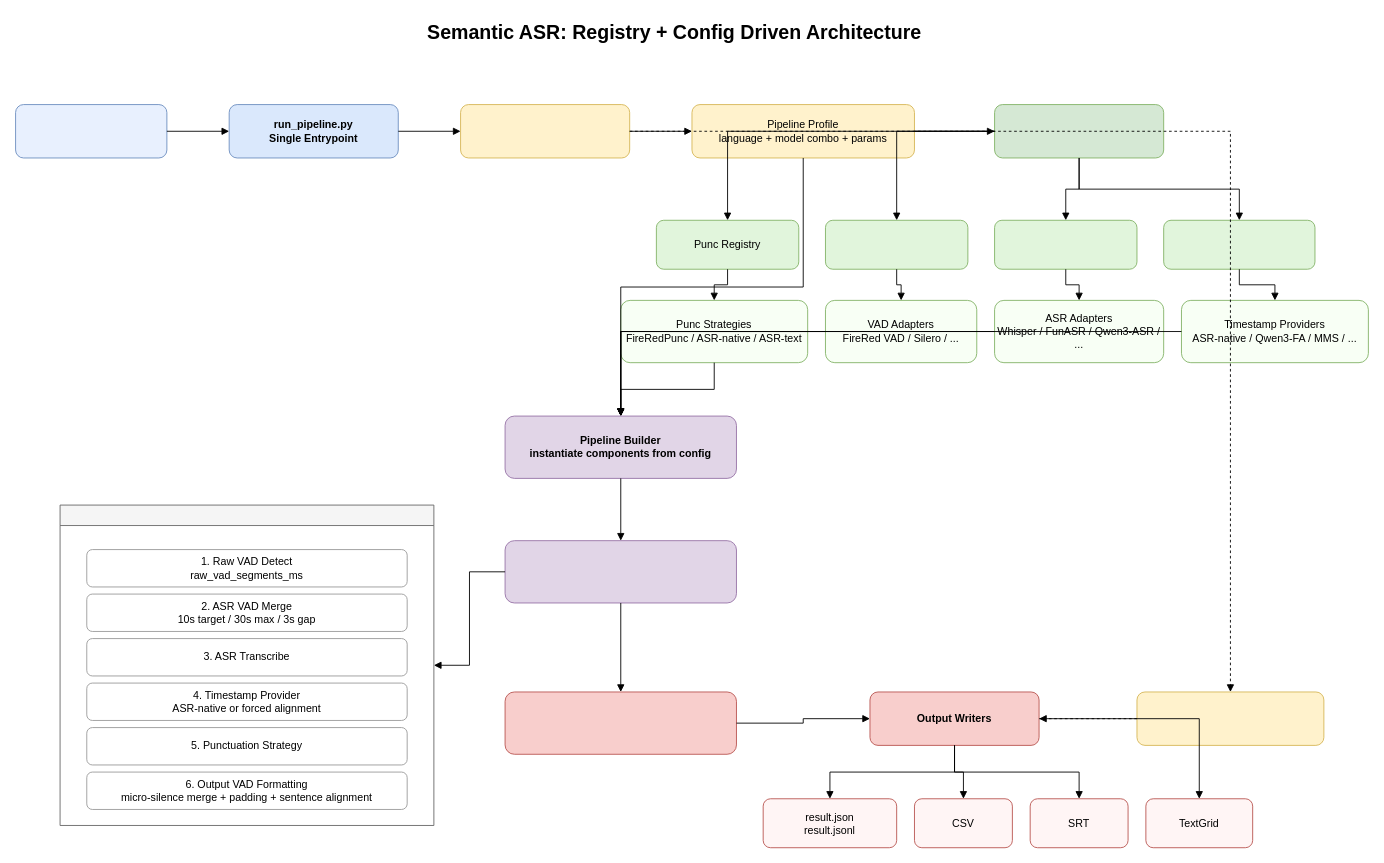
The diagram is 1384 pixels wide and 863 high, and some of its shapes have lost their labels. The shapes that lost their labels are listed below. From the top down, each one's box as (x1, y1, x2, y2) in pixels, then its label:
(15, 104, 167, 158): User / Experiment
(460, 104, 630, 158): Config Loader YAML / JSON
(994, 104, 1164, 158): Component Registry
(825, 219, 968, 269): VAD Registry
(994, 219, 1137, 269): ASR Registry
(1163, 219, 1315, 269): Timestamp Registry
(504, 540, 736, 603): SemanticAsrPipeline VAD → ASR → Timestamp → Punc
(59, 504, 434, 825): Pipeline Runtime Steps
(504, 691, 736, 754): Normalized Result JSON text / sentences / words / vad segments
(1136, 691, 1324, 745): Resolved Config Copy experiment provenance
